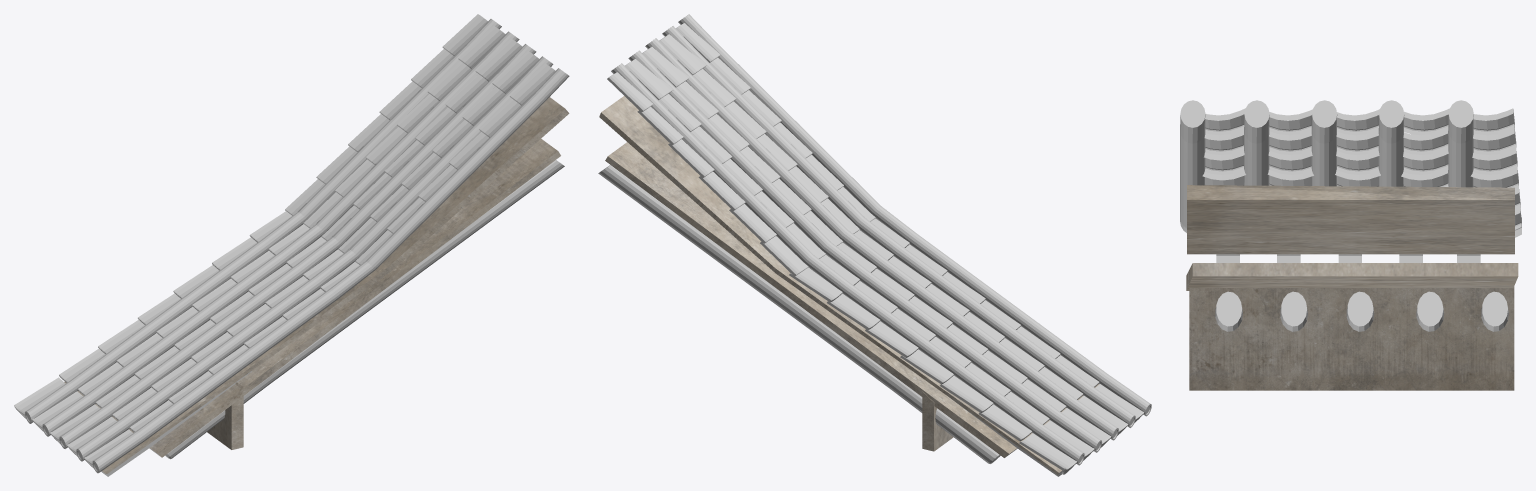
Rendered from SM_Roof_65.fbx.
The picture shows the model from 3 angles, left to right: view 1: azimuth 30°, elevation 25°; view 2: azimuth 150°, elevation 25°; view 3: azimuth 270°, elevation 25°; orthographic projection. The views are drawn at different scales.
Visible parts, largest first — view 1: SM_Roof_65; view 2: SM_Roof_65; view 3: SM_Roof_65.
Boxes of the visible parts, x1,y1,x2,y2 form: SM_Roof_65: (14, 14, 569, 476); SM_Roof_65: (598, 14, 1151, 476); SM_Roof_65: (1180, 100, 1521, 390).
Bounding box in the file's own units: 914 × 285 × 555.
